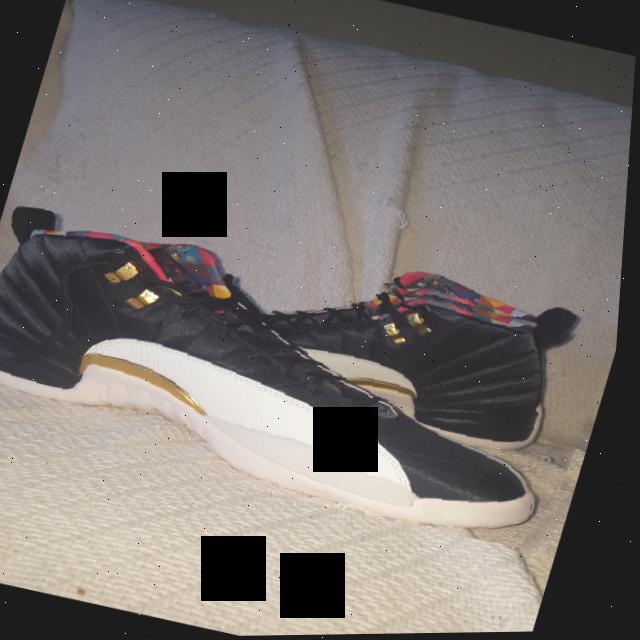shoe: (0, 180, 630, 564), (190, 203, 622, 470)
